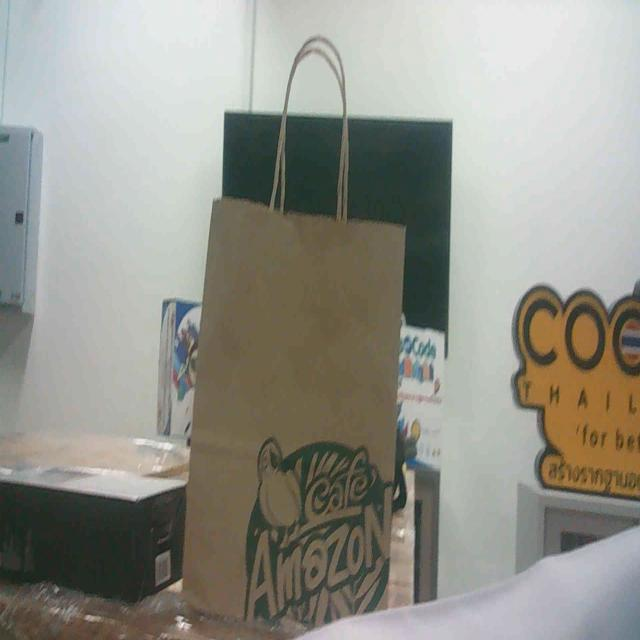bag: (194, 206, 411, 640)
